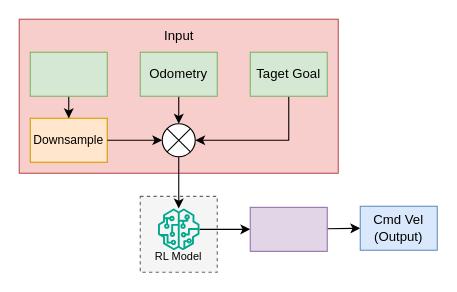
Image size: 457x292. Some labels were removed from this diagram. Each missing label, with the box of its shape:
LiDAR: (29, 51, 107, 96)
PID Controller: (249, 206, 327, 251)
